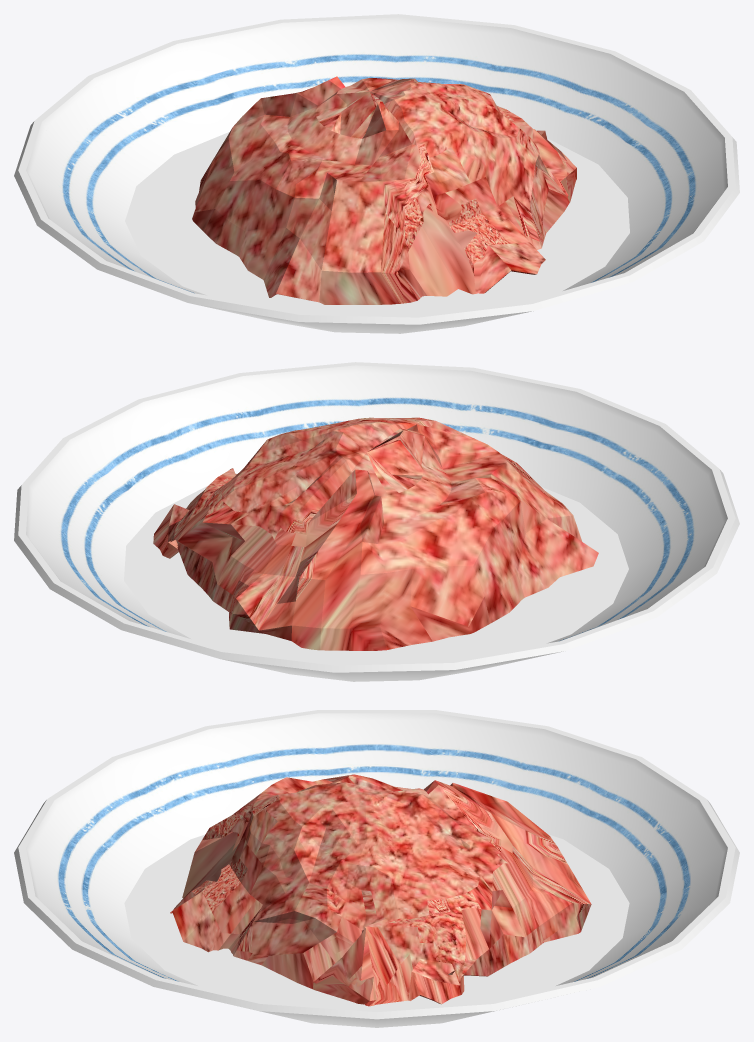
File: mincedbeef.glb
The picture shows the model from 3 angles, top to bottom: view 1: azimuth 30°, elevation 25°; view 2: azimuth 150°, elevation 25°; view 3: azimuth 270°, elevation 25°; orthographic projection.
Visible parts, largest first — view 1: Prato_Material #25_0, Sphere; view 2: Prato_Material #25_0, Sphere; view 3: Prato_Material #25_0, Sphere.
Part boxes in pixels (box(x1,y1,x2,y2)): Prato_Material #25_0: box(14, 14, 739, 333); Sphere: box(192, 76, 576, 304); Prato_Material #25_0: box(14, 362, 739, 681); Sphere: box(153, 417, 598, 650); Prato_Material #25_0: box(14, 710, 739, 1027); Sphere: box(170, 774, 591, 1006).
Bounding box in the file's own units: 47.15 × 11.96 × 47.31.
Materials: 2 (2 with a texture image).
